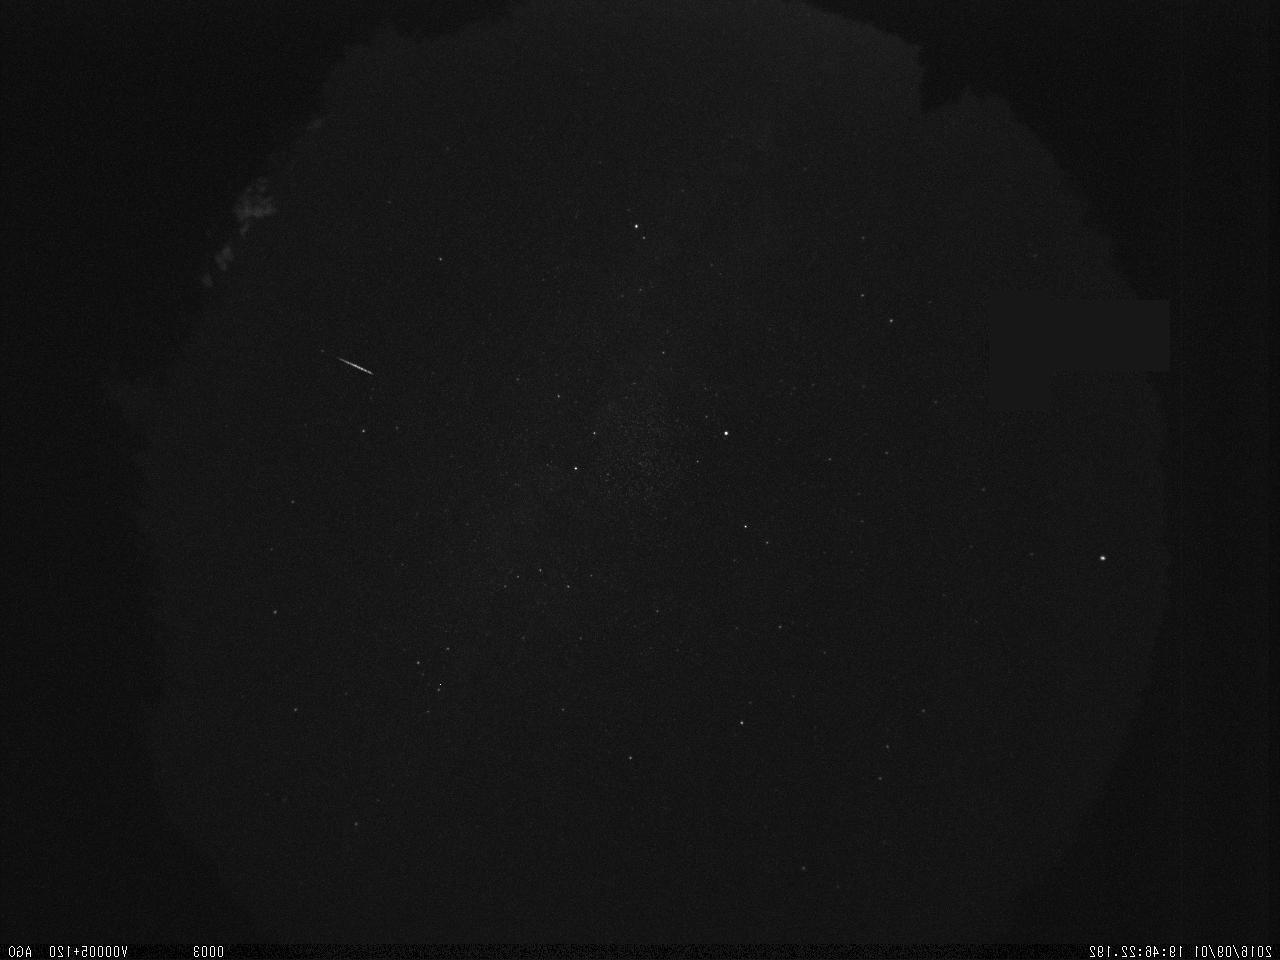meteor: (325, 347, 389, 382)
